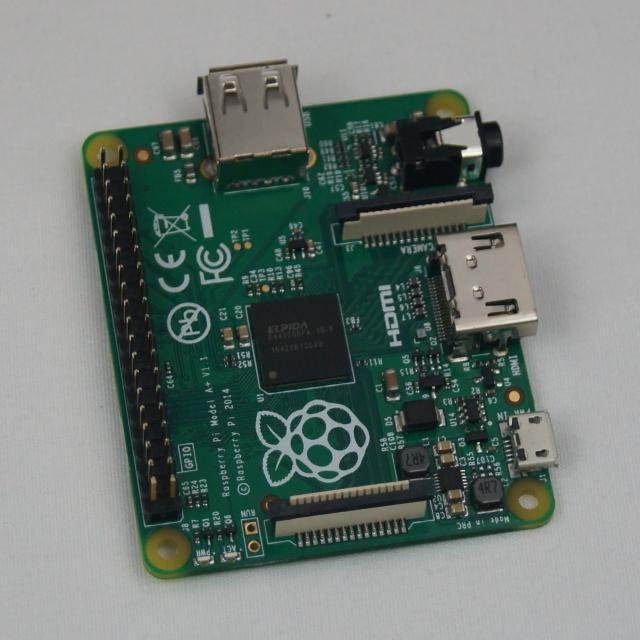Raspberry-Pi-1-A-: (83, 61, 557, 578)
